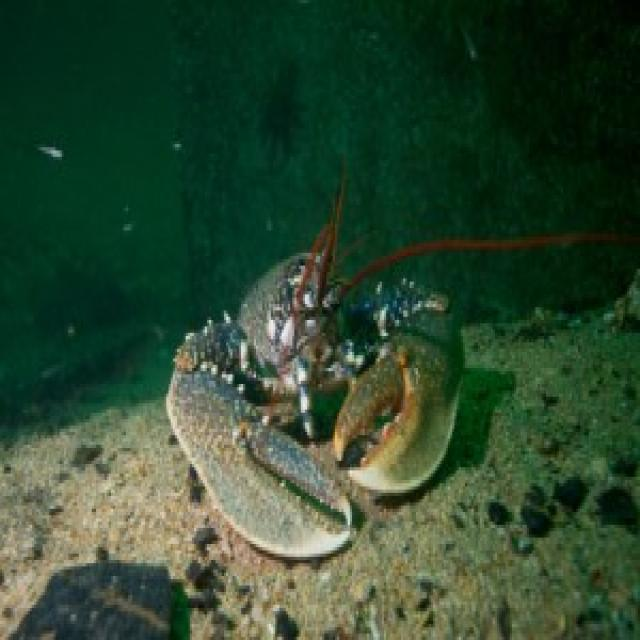lobsters: (155, 192, 539, 608)
